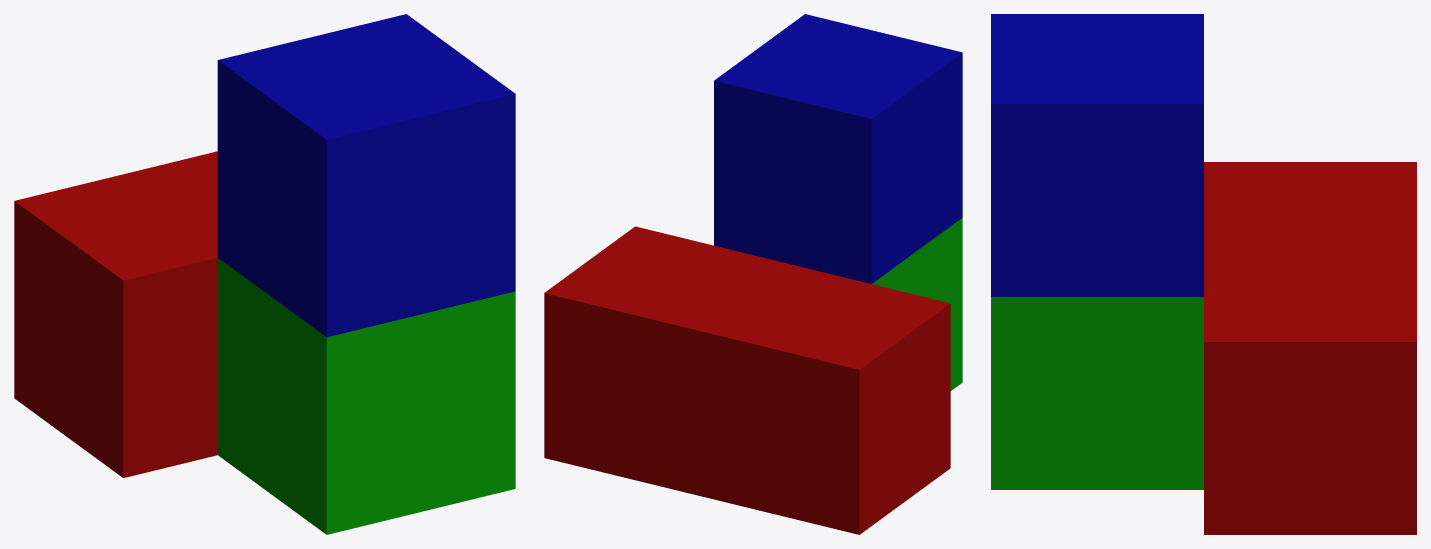
Rendered from boxes.obj.
3 renders of one model, left to right at view 1: azimuth 30°, elevation 25°; view 2: azimuth 150°, elevation 25°; view 3: azimuth 270°, elevation 25°, orthographic. The views are drawn at different scales.
Parts seen in each view (by area): view 1: Cube.002, Cube.001, Cube; view 2: Cube, Cube.002, Cube.001; view 3: Cube, Cube.002, Cube.001.
Boxes of the visible parts, x1,y1,x2,y2 form: Cube.002: (217,14,515,337); Cube.001: (217,258,515,534); Cube: (14,151,217,477); Cube: (544,226,950,534); Cube.002: (714,14,962,283); Cube.001: (872,218,962,390); Cube: (1204,162,1416,534); Cube.002: (991,14,1203,296); Cube.001: (991,297,1203,489).
Size of the model in its own units: 4 by 4 by 4.
